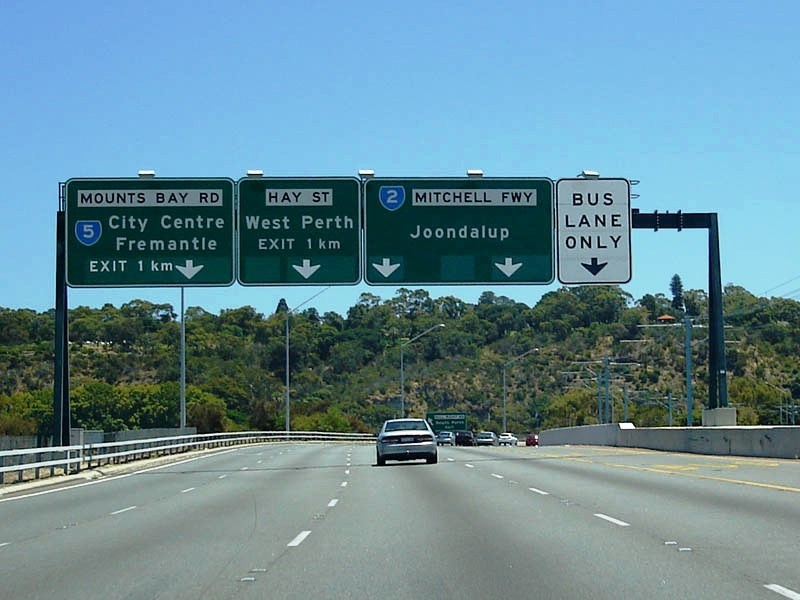text: (105, 215, 120, 236), (121, 215, 136, 236), (137, 215, 152, 236), (244, 215, 259, 232), (260, 215, 275, 232), (276, 215, 291, 232), (405, 225, 420, 242), (421, 225, 436, 242), (437, 225, 452, 242), (453, 225, 468, 242), (469, 225, 484, 242), (485, 225, 500, 242), (501, 225, 516, 242), (153, 215, 168, 231), (169, 215, 184, 231), (185, 215, 200, 231), (201, 215, 216, 231), (217, 215, 232, 231), (111, 236, 126, 252), (127, 236, 142, 252), (143, 236, 158, 252), (159, 236, 174, 252), (175, 236, 190, 252), (191, 236, 206, 252), (207, 236, 222, 252), (296, 216, 311, 231), (312, 216, 327, 231), (328, 216, 343, 231), (344, 216, 359, 231), (562, 214, 577, 229), (578, 214, 593, 229), (594, 214, 609, 229), (610, 214, 625, 229), (561, 235, 576, 250), (577, 235, 592, 250), (593, 235, 608, 250), (609, 235, 624, 250), (570, 193, 585, 207), (586, 193, 601, 207), (602, 193, 617, 207), (81, 226, 96, 239), (385, 191, 400, 204), (414, 191, 429, 204), (430, 191, 445, 204), (446, 191, 461, 204), (462, 191, 477, 204), (478, 191, 493, 204), (262, 192, 277, 204), (278, 192, 293, 204), (294, 192, 309, 204), (306, 192, 321, 204), (322, 192, 337, 204), (157, 193, 172, 205), (173, 193, 188, 205), (73, 193, 88, 205), (89, 193, 104, 205), (105, 193, 120, 205), (121, 193, 136, 205), (137, 193, 152, 205), (85, 261, 100, 273), (101, 261, 116, 273), (117, 261, 132, 273), (133, 260, 148, 272), (147, 261, 162, 273), (163, 261, 178, 273), (252, 239, 267, 251), (268, 239, 283, 251), (284, 239, 299, 251), (502, 192, 517, 204), (518, 192, 533, 204), (194, 193, 209, 204), (210, 193, 225, 204), (302, 239, 317, 250), (314, 239, 329, 250), (330, 239, 345, 250), (426, 414, 441, 421), (442, 414, 457, 421), (458, 414, 473, 421), (442, 425, 457, 431), (434, 421, 449, 426), (450, 421, 465, 426)
